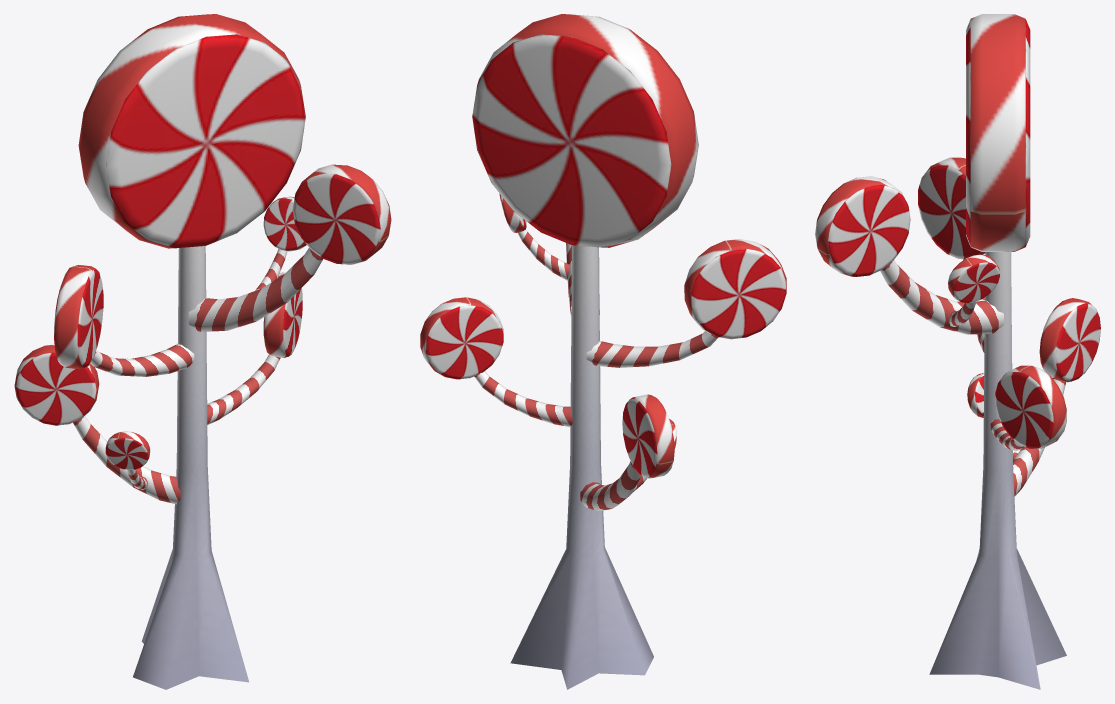
File: SM_CANE_TREE_03.fbx
3 views of the same model, side by side, from view 1: azimuth 30°, elevation 25°; view 2: azimuth 150°, elevation 25°; view 3: azimuth 270°, elevation 25° (orthographic).
Parts seen in each view (by area): view 1: CANE_TREE_03; view 2: CANE_TREE_03; view 3: CANE_TREE_03.
Boxes of the visible parts, x1,y1,x2,y2 form: CANE_TREE_03: (14,14,391,689); CANE_TREE_03: (420,14,786,689); CANE_TREE_03: (815,14,1100,689).
Bounding box in the file's own units: 231 × 460 × 187.
Materials: 1 (1 with a texture image).
